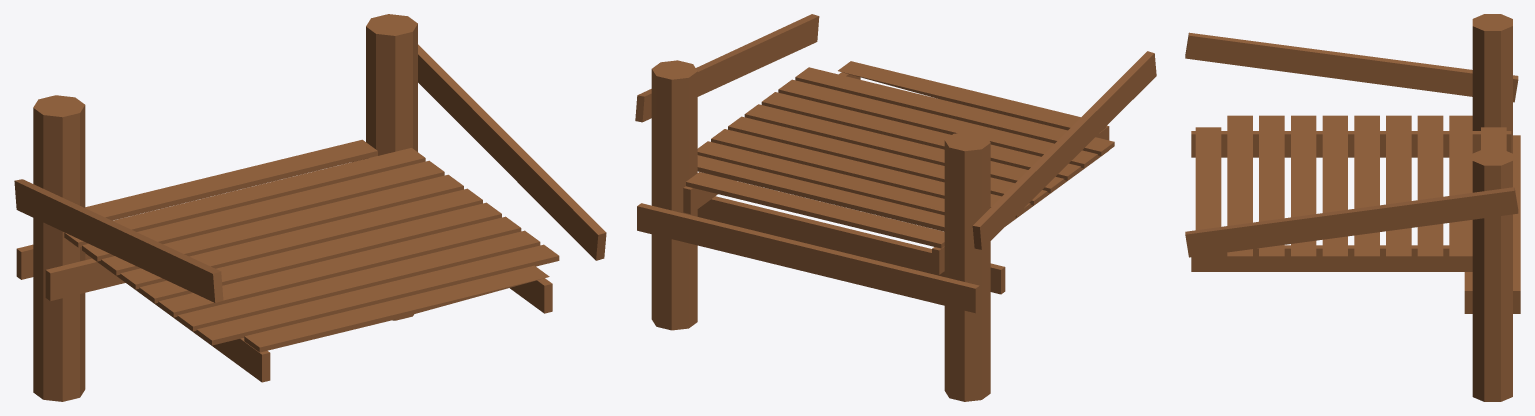
Rendered from Barrier Dock Attach 2.fbx.
The picture shows the model from 3 angles, left to right: view 1: azimuth 30°, elevation 25°; view 2: azimuth 150°, elevation 25°; view 3: azimuth 270°, elevation 25°; orthographic projection. The views are drawn at different scales.
Parts seen in each view (by area): view 1: Barrier Dock Attach 2; view 2: Barrier Dock Attach 2; view 3: Barrier Dock Attach 2.
Boxes of the visible parts, left/top/right/bottom form: Barrier Dock Attach 2: left=14, top=14, right=606, bottom=401; Barrier Dock Attach 2: left=635, top=14, right=1156, bottom=401; Barrier Dock Attach 2: left=1185, top=14, right=1520, bottom=401.
Bounding box in the file's own units: 414 × 288 × 370.
